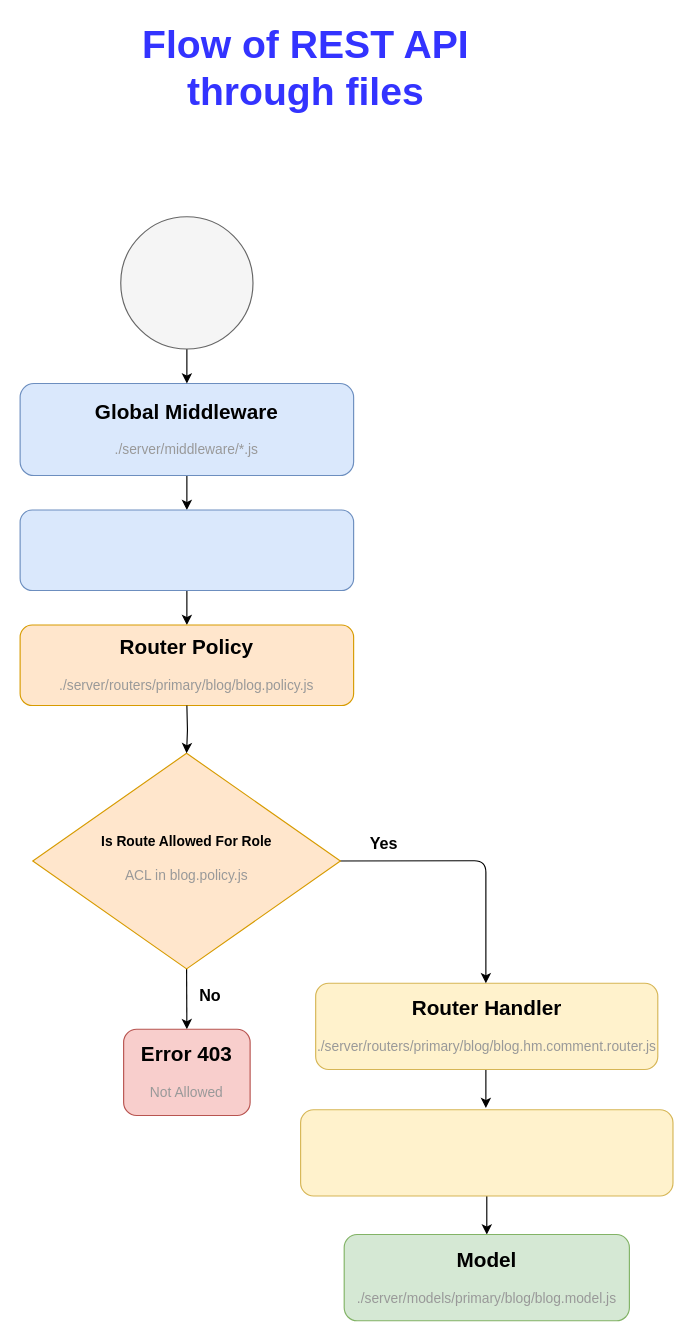
This 693x1341 diagram has some shape labels left out. The centre of each missing label's shape, as x and y in pixels:
"GET Request" belongs at (186,282).
"Router Middleware ./server/routers/primary/blog/blog.middleware.js" belongs at (186,550).
"Service ./server/services/primary/blog/blog.hm.comment. service.js" belongs at (486,1152).
